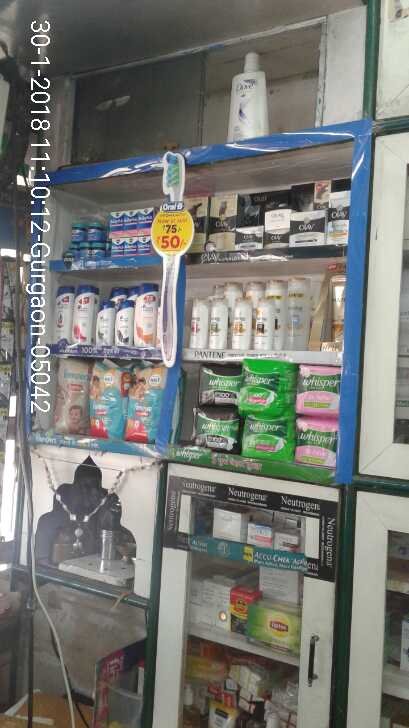beauty: (204, 194, 236, 250), (47, 283, 74, 347), (286, 282, 310, 349), (70, 288, 95, 351), (134, 284, 158, 348), (288, 210, 323, 248), (225, 298, 250, 350), (255, 296, 276, 354), (207, 293, 228, 348), (263, 213, 291, 252), (323, 191, 341, 250), (186, 299, 207, 345), (116, 302, 136, 346), (238, 222, 265, 250), (97, 303, 113, 344)
pharmacy: (86, 358, 131, 440), (46, 356, 89, 439), (243, 362, 293, 417), (295, 416, 343, 471), (235, 414, 293, 459), (129, 365, 156, 445), (298, 368, 337, 416), (194, 412, 252, 443), (198, 365, 241, 406), (81, 218, 103, 243), (133, 206, 152, 234), (105, 207, 122, 238), (66, 219, 84, 243), (137, 233, 154, 257), (123, 209, 137, 237), (111, 234, 125, 257), (125, 236, 134, 257)
